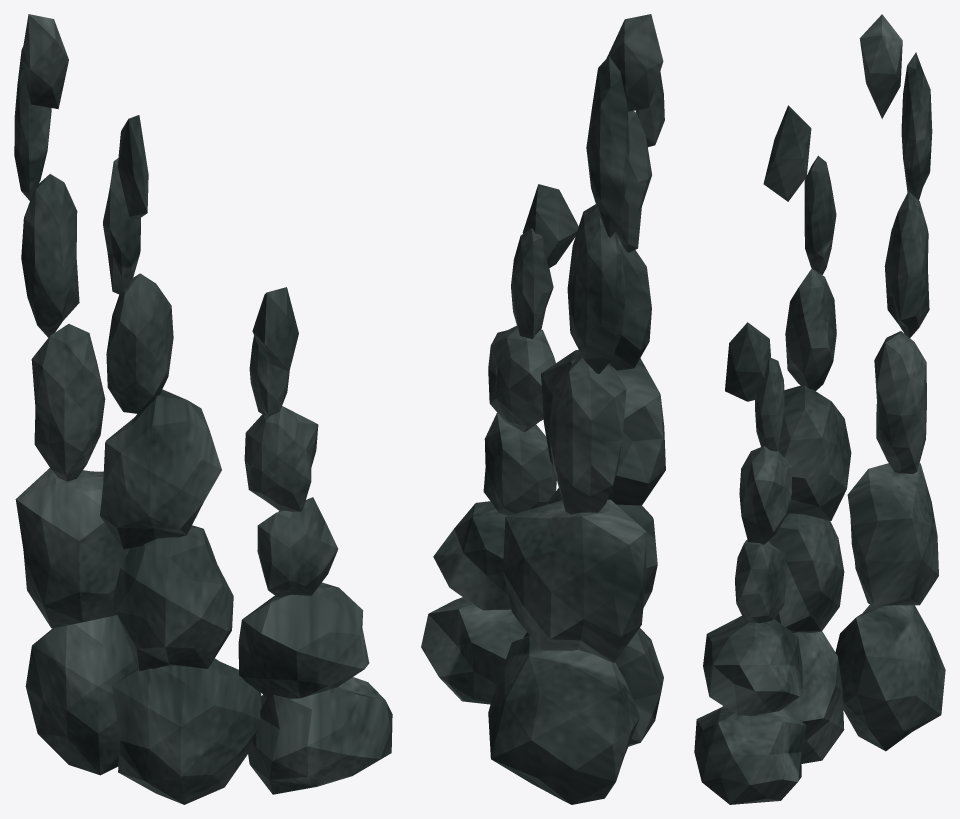
File: 0072_rock_spire_22.glb
3 views of the same model, side by side, from view 1: azimuth 30°, elevation 25°; view 2: azimuth 150°, elevation 25°; view 3: azimuth 270°, elevation 25° (orthographic). The views are drawn at different scales.
Visible parts, largest first — view 1: stone_dark; view 2: stone_dark; view 3: stone_dark.
Boxes of the visible parts, <box> form: stone_dark: <box>14,14,392,804</box>; stone_dark: <box>421,14,665,804</box>; stone_dark: <box>694,14,945,804</box>.
Bounding box in the file's own units: 1.48 × 3.72 × 1.22.
1 material, 1 textured.
